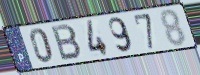0: (28, 27, 55, 65)
4: (88, 19, 110, 58)
7: (132, 13, 155, 51)
8: (159, 7, 187, 47)
9: (108, 16, 134, 53)
B: (50, 23, 84, 62)
